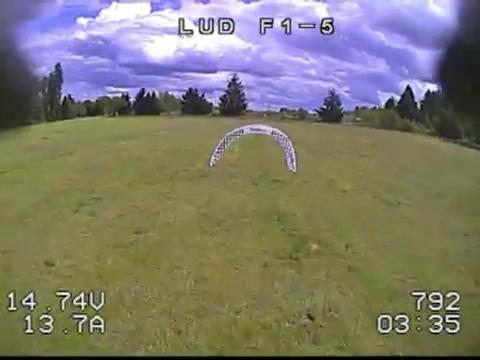gate: (208, 124, 296, 176)
